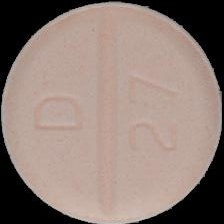65862-133: (0, 0, 224, 224)
